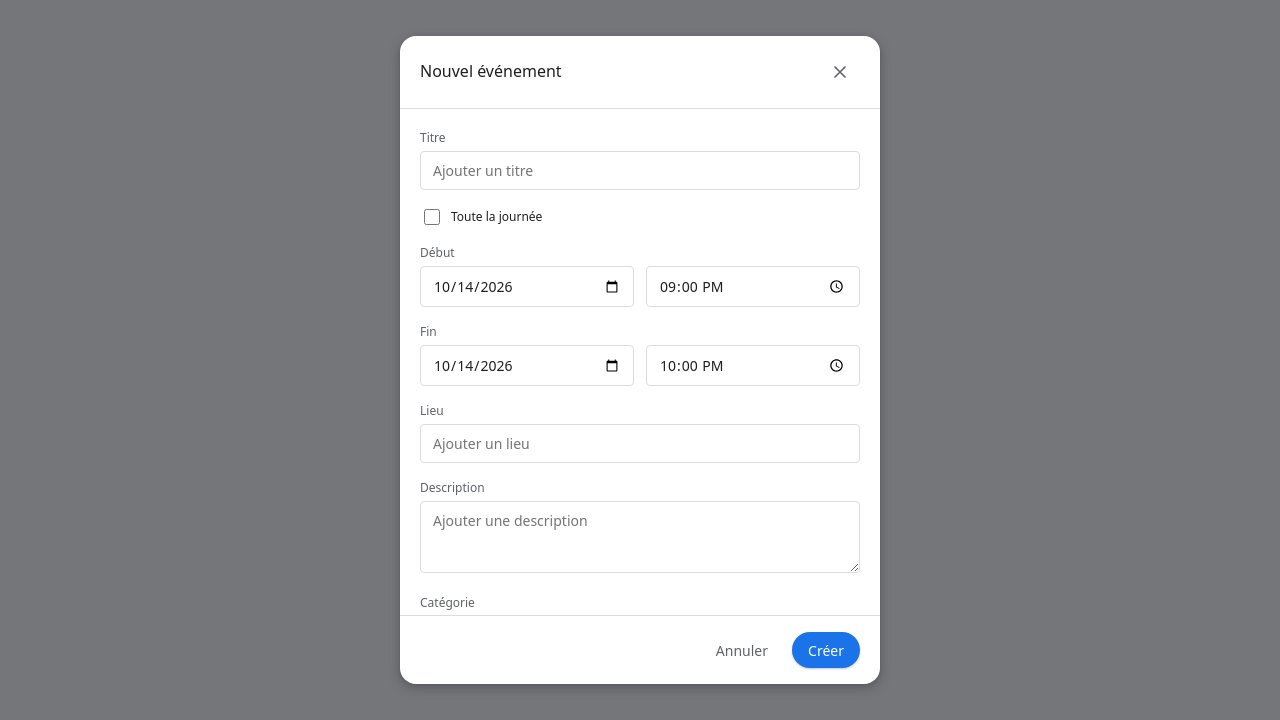
EventModal › soumission › affiche l'erreur serveur si la soumission échoue et garde la modale ouverte
This screenshot has width=1280, height=720.
Type "Titre valide" into the field with id "event-title".
click(640, 170); type("Titre valide")  # box [420,151,860,190]
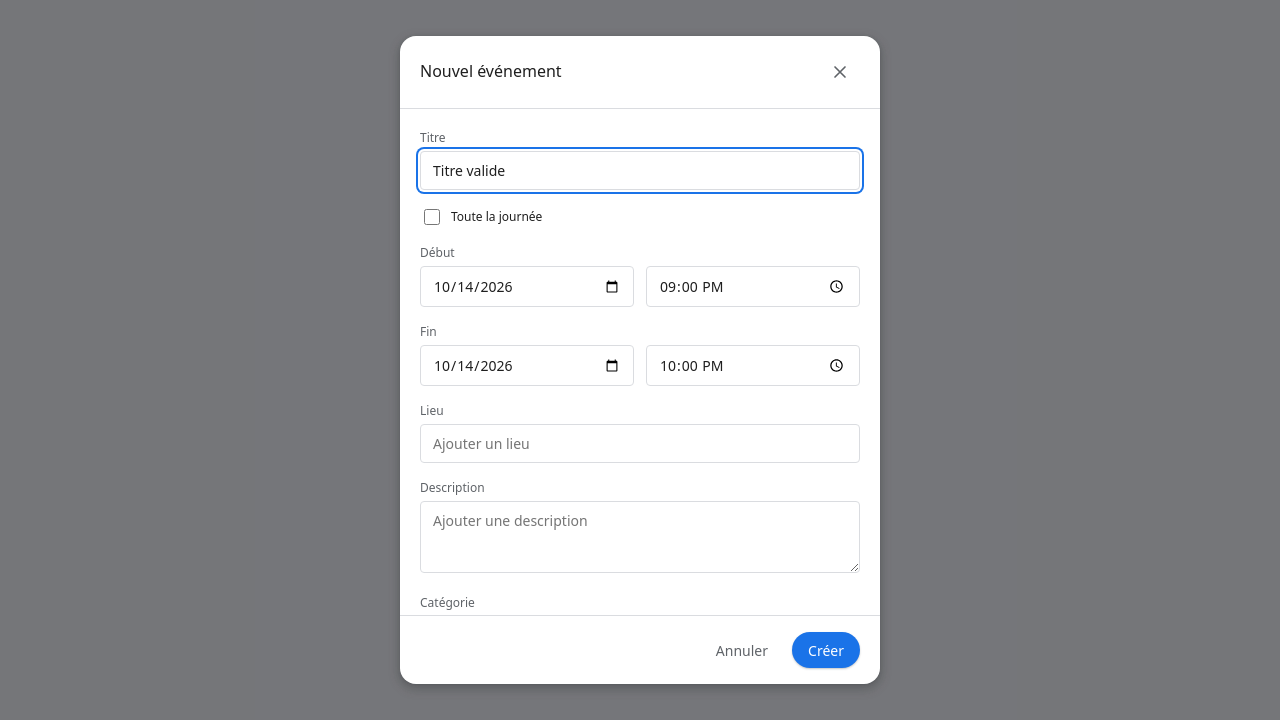
Submit the dialog, box [400,36,880,684]
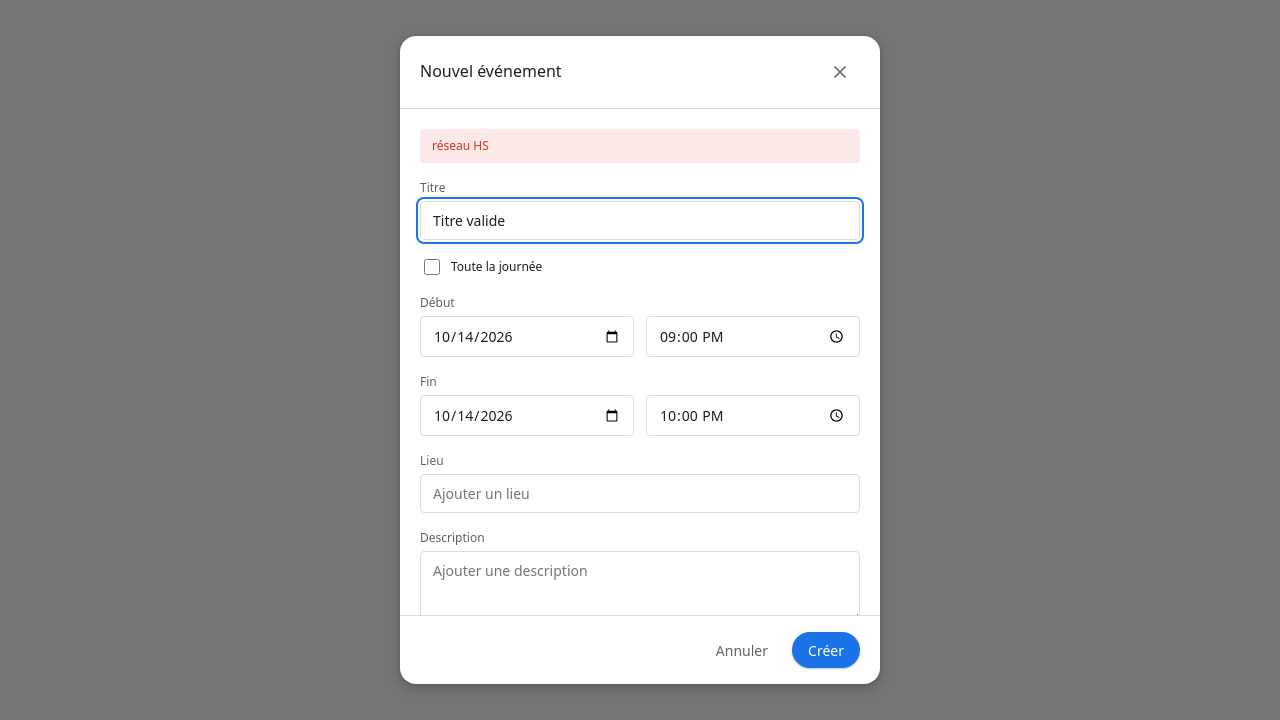
Expected: the text "réseau HS" is shown, [420,129,860,163]
